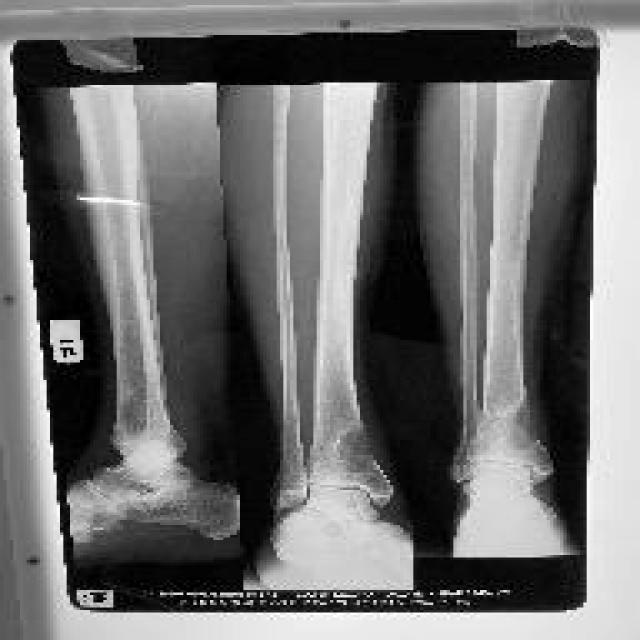bone-cancer: (337, 426, 377, 475), (505, 396, 538, 450)
